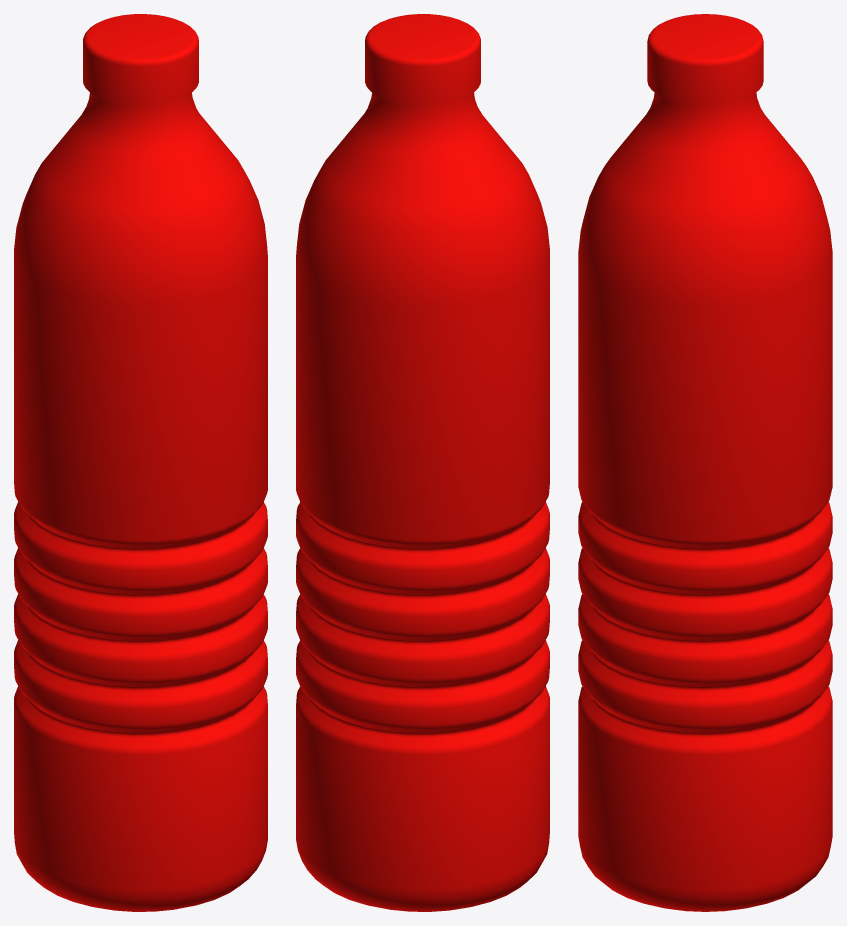
The model's file is Plastic Bottle With Cap.fbx.
3 renders of one model, left to right at view 1: azimuth 30°, elevation 25°; view 2: azimuth 150°, elevation 25°; view 3: azimuth 270°, elevation 25°, orthographic.
Parts seen in each view (by area): view 1: Plastic Bottle With Cap; view 2: Plastic Bottle With Cap; view 3: Plastic Bottle With Cap.
Part boxes in pixels (bbox=[...]): Plastic Bottle With Cap: bbox=[14, 14, 267, 911]; Plastic Bottle With Cap: bbox=[296, 14, 549, 911]; Plastic Bottle With Cap: bbox=[578, 14, 832, 911].
Bounding box in the file's own units: 5.94 × 21.5 × 5.94.
